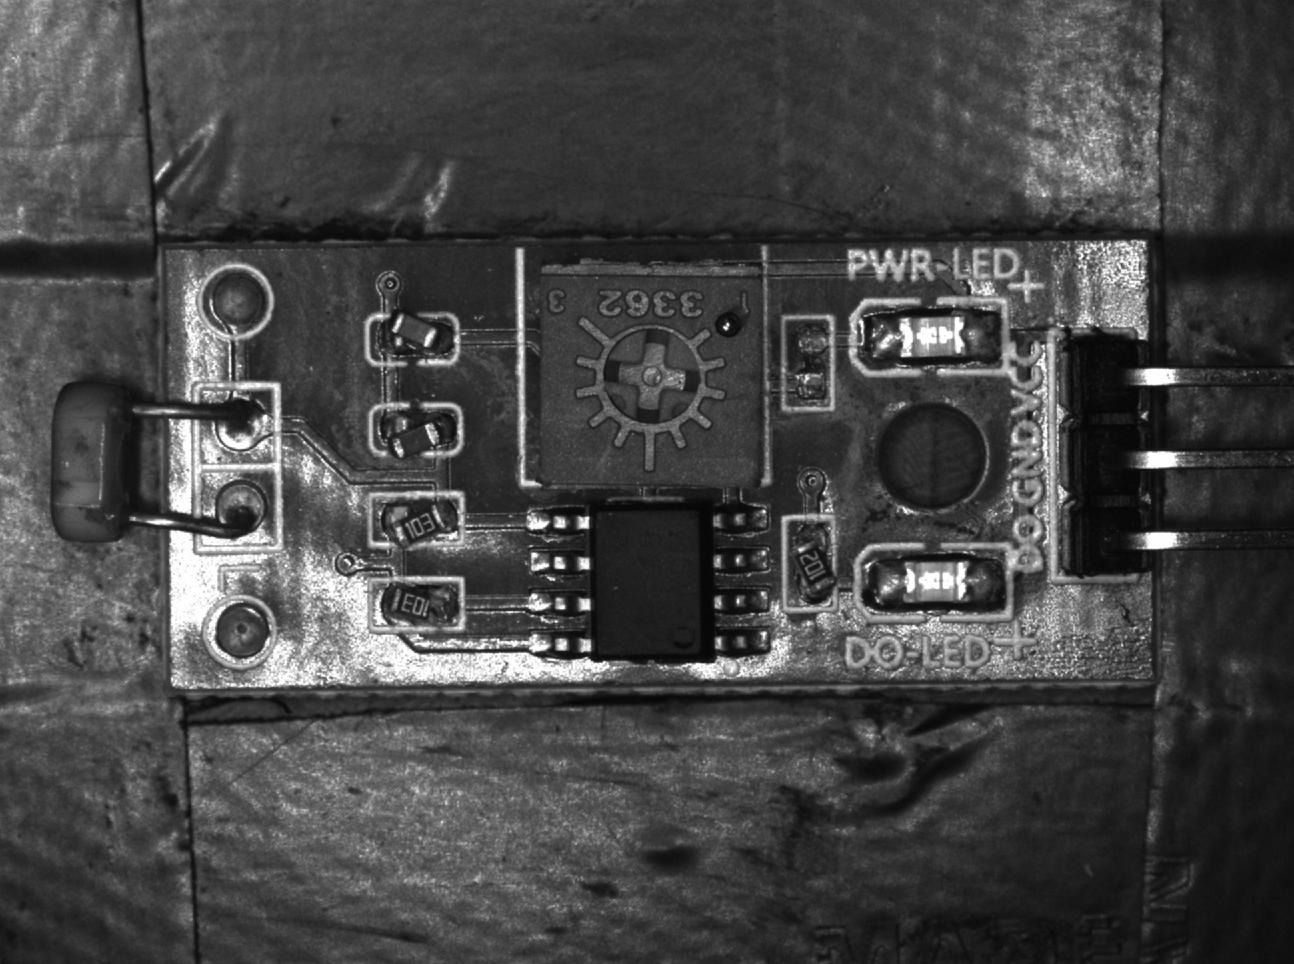lifted: (368, 577, 464, 636), (369, 494, 463, 552), (370, 406, 460, 463), (366, 312, 458, 367), (786, 519, 836, 614)
miss: (784, 313, 836, 409)
